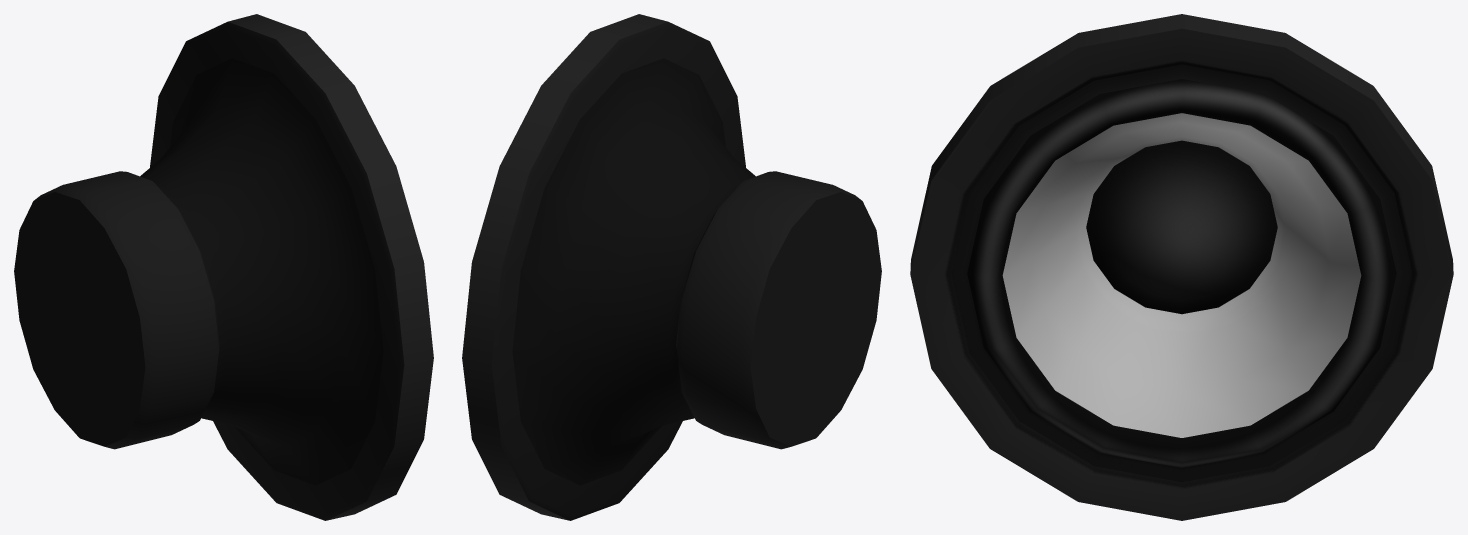
Rendered from speaker_lowpoly.fbx.
3 views of the same model, side by side, from view 1: azimuth 30°, elevation 25°; view 2: azimuth 150°, elevation 25°; view 3: azimuth 270°, elevation 25° (orthographic). The views are drawn at different scales.
Visible parts, largest first — view 1: speaker; view 2: speaker; view 3: speaker.
Boxes of the visible parts, x1,y1,x2,y2 form: speaker: (14,14,433,520); speaker: (462,14,881,520); speaker: (910,14,1453,520).
Bounding box in the file's own units: 36.01 × 68.28 × 68.28.
